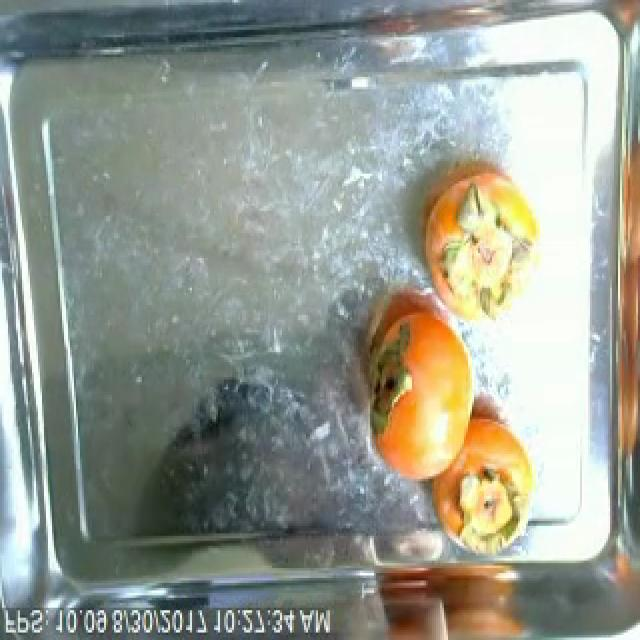Fruit: (360, 300, 482, 501)
